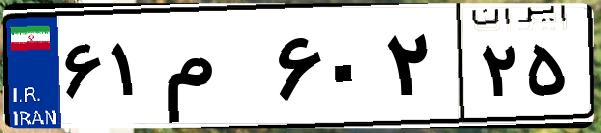0: (330, 28, 385, 110)
1: (110, 28, 158, 98)
2: (385, 28, 445, 110), (475, 38, 525, 113)
5: (525, 38, 570, 115)
6: (270, 28, 330, 110), (57, 26, 110, 100)
م: (158, 20, 270, 120)
